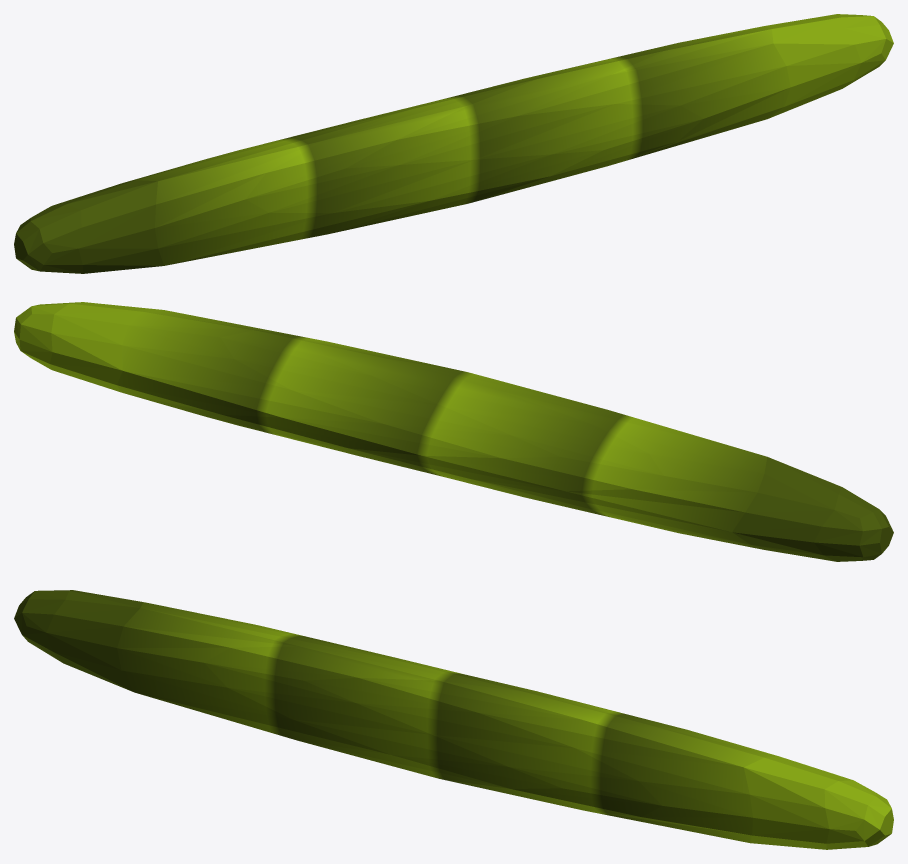
Rendered from mother5.obj.
3 renders of one model, top to bottom at view 1: azimuth 30°, elevation 25°; view 2: azimuth 150°, elevation 25°; view 3: azimuth 330°, elevation 25°, orthographic.
Parts seen in each view (by area): view 1: ColobotMesh_1_ColobotMesh_; view 2: ColobotMesh_1_ColobotMesh_; view 3: ColobotMesh_1_ColobotMesh_.
Part boxes in pixels (left/top/right/bottom): ColobotMesh_1_ColobotMesh_: left=14, top=14, right=893, bottom=273; ColobotMesh_1_ColobotMesh_: left=14, top=302, right=893, bottom=561; ColobotMesh_1_ColobotMesh_: left=14, top=590, right=893, bottom=849.
Bounding box in the file's own units: 8 × 0.8948 × 0.8631.
